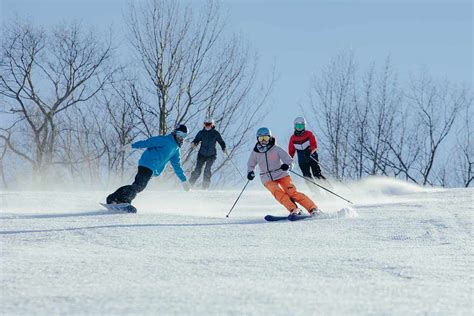skier: (219, 126, 357, 222), (173, 116, 246, 212), (276, 116, 352, 207)
snowboarder: (95, 122, 193, 214)
